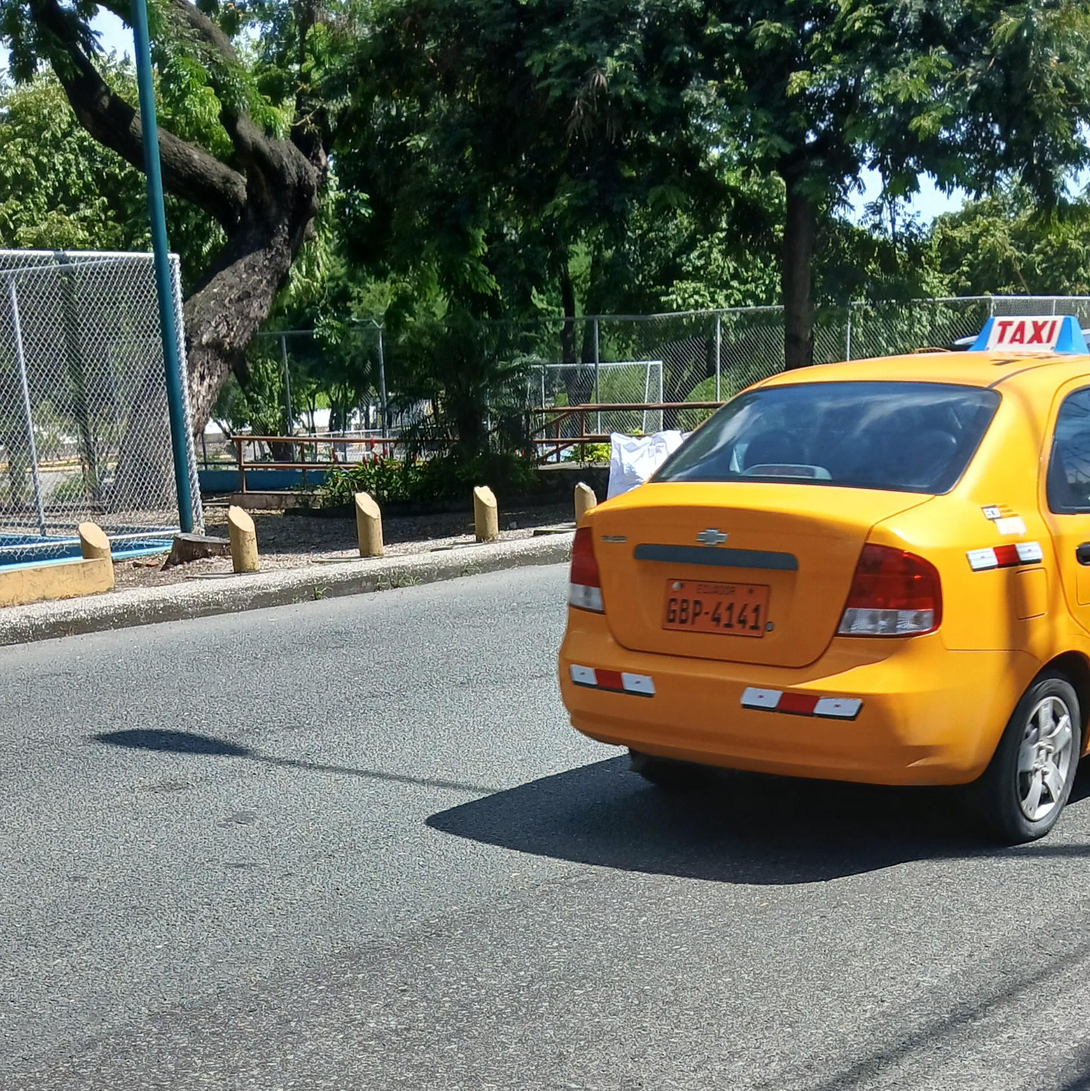license_plate: (662, 579, 772, 637)
